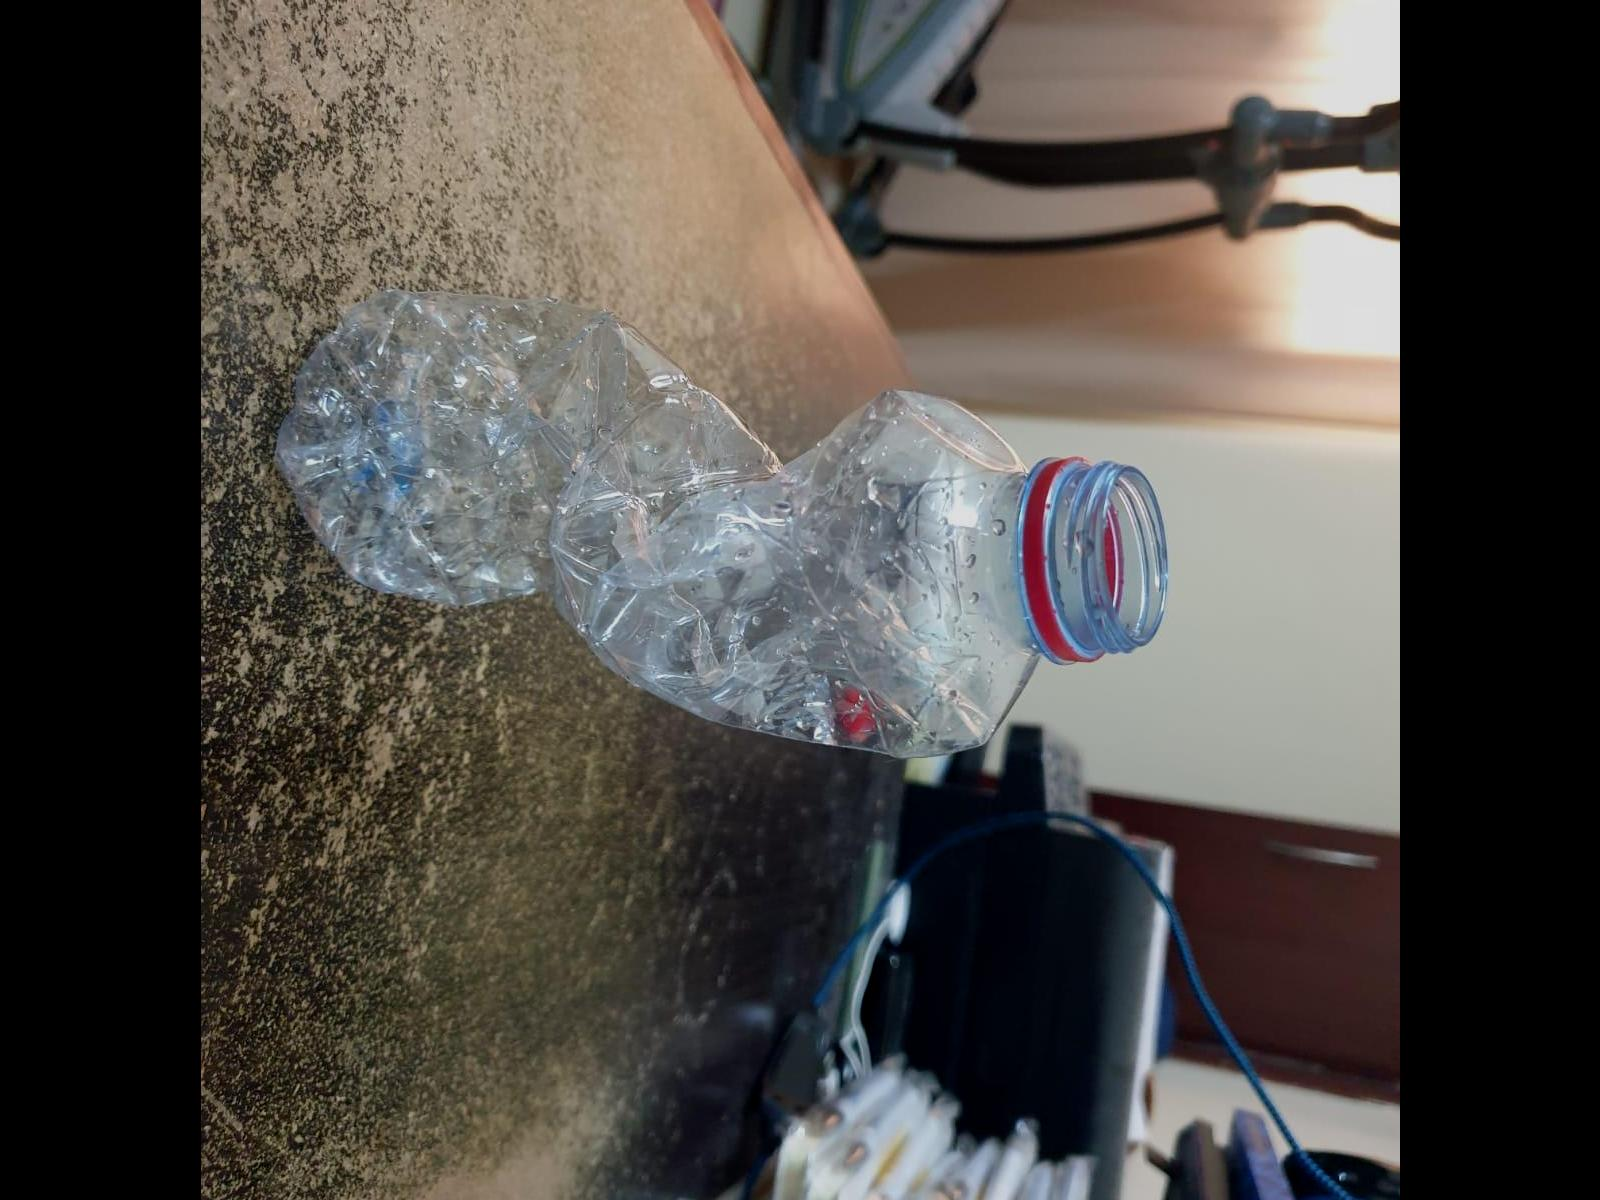bottle: (269, 282, 1179, 755)
